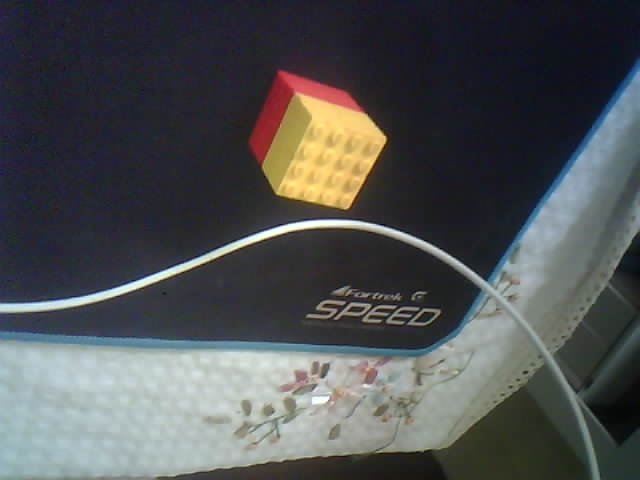lego: (246, 68, 387, 212)
